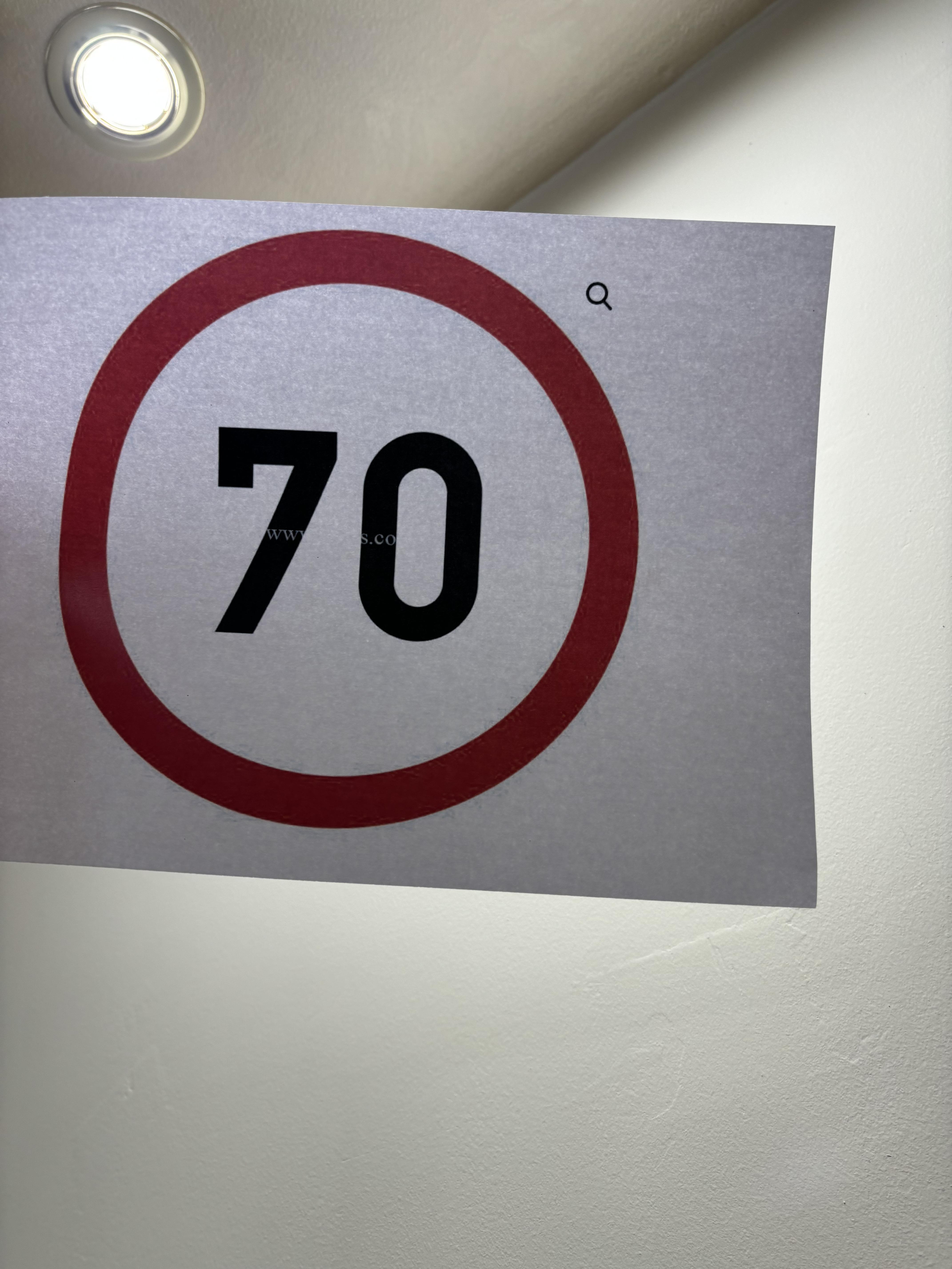70-Speed: (52, 225, 662, 828)
